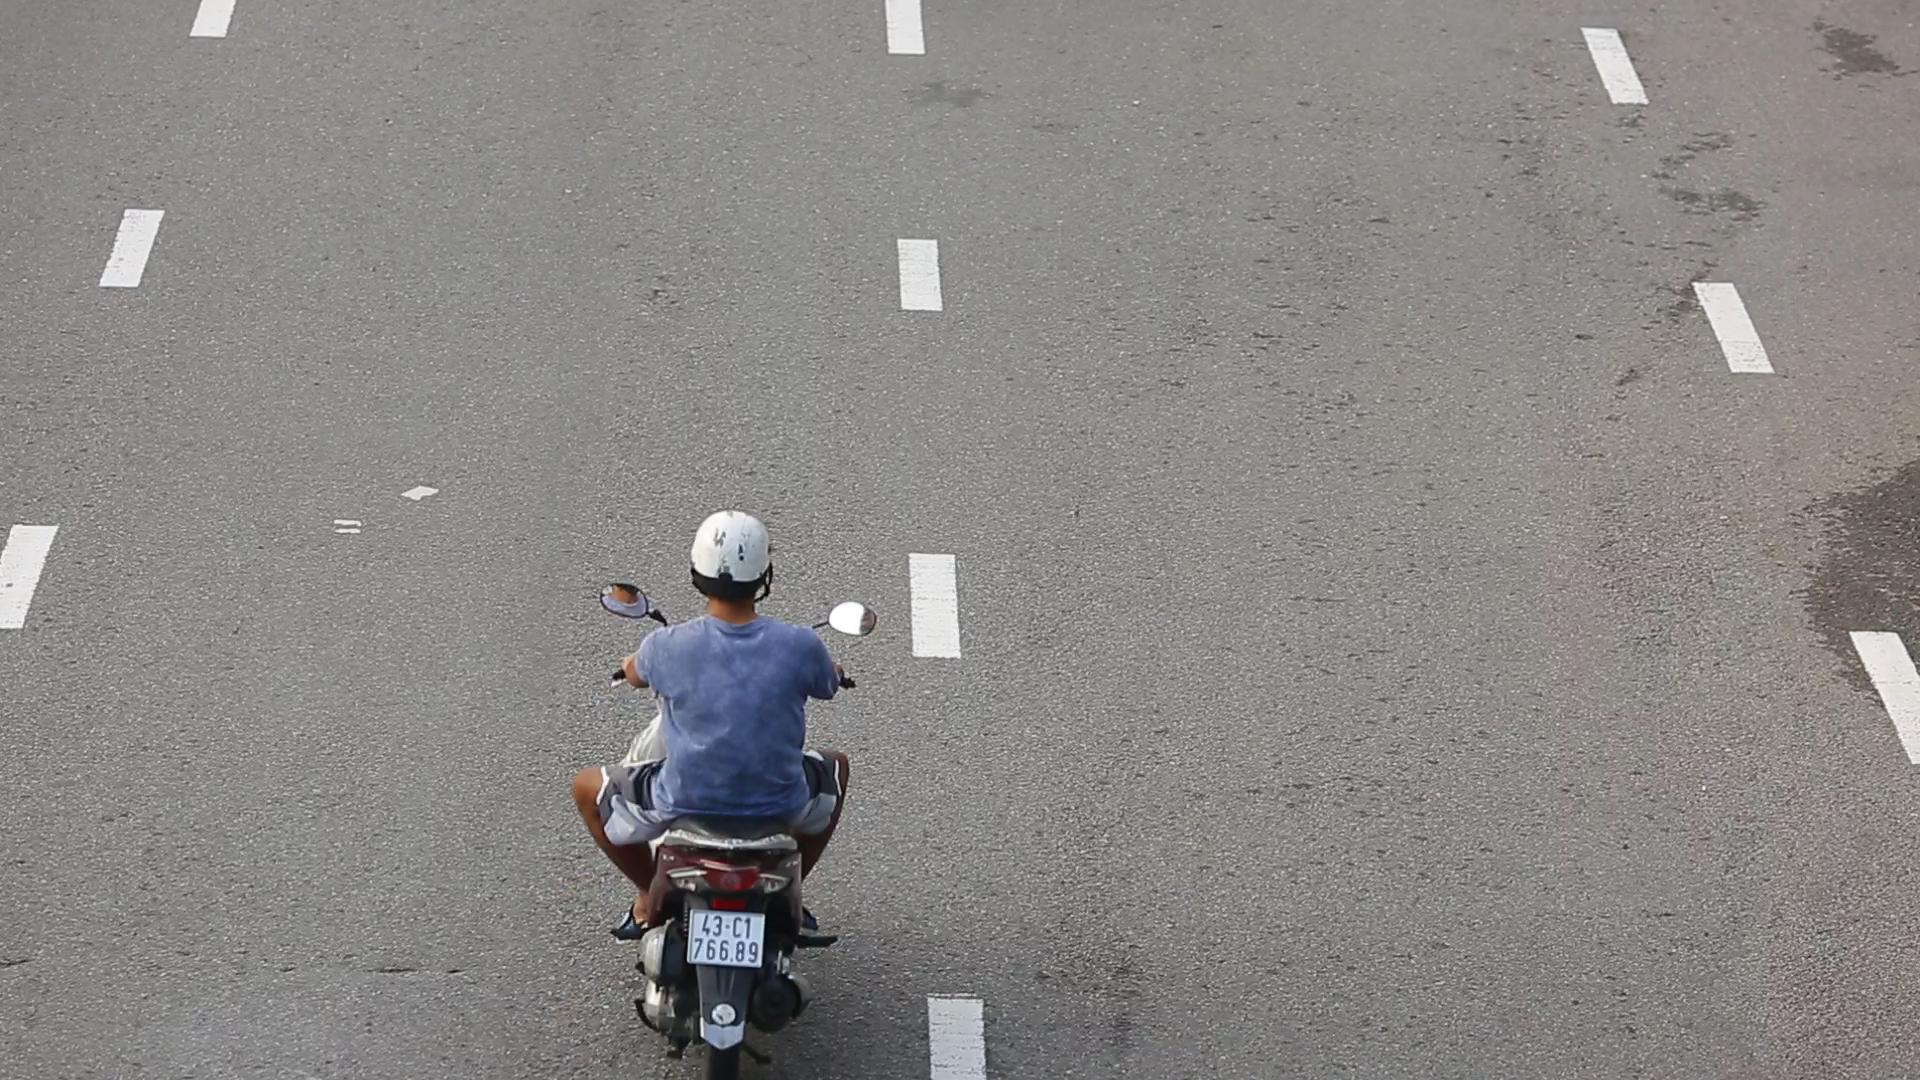motobike: (572, 502, 878, 1080)
